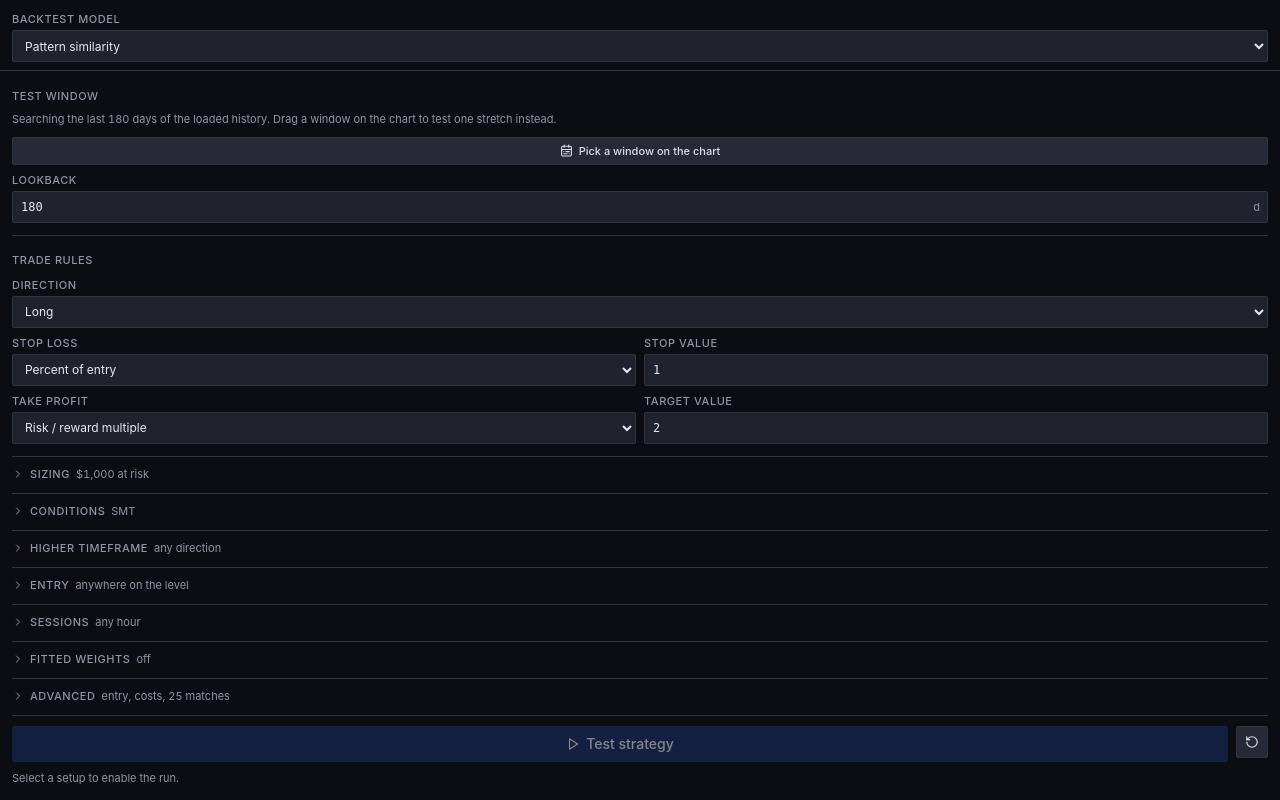
Test: what a run searches, as the panel says it › names the markets searched and the one read for SMT only
(page scrolled)
Click the button "Advanced entry, costs, 25 matches". click: (63, 696)
box: [12,689,1268,703]
(page scrolled)
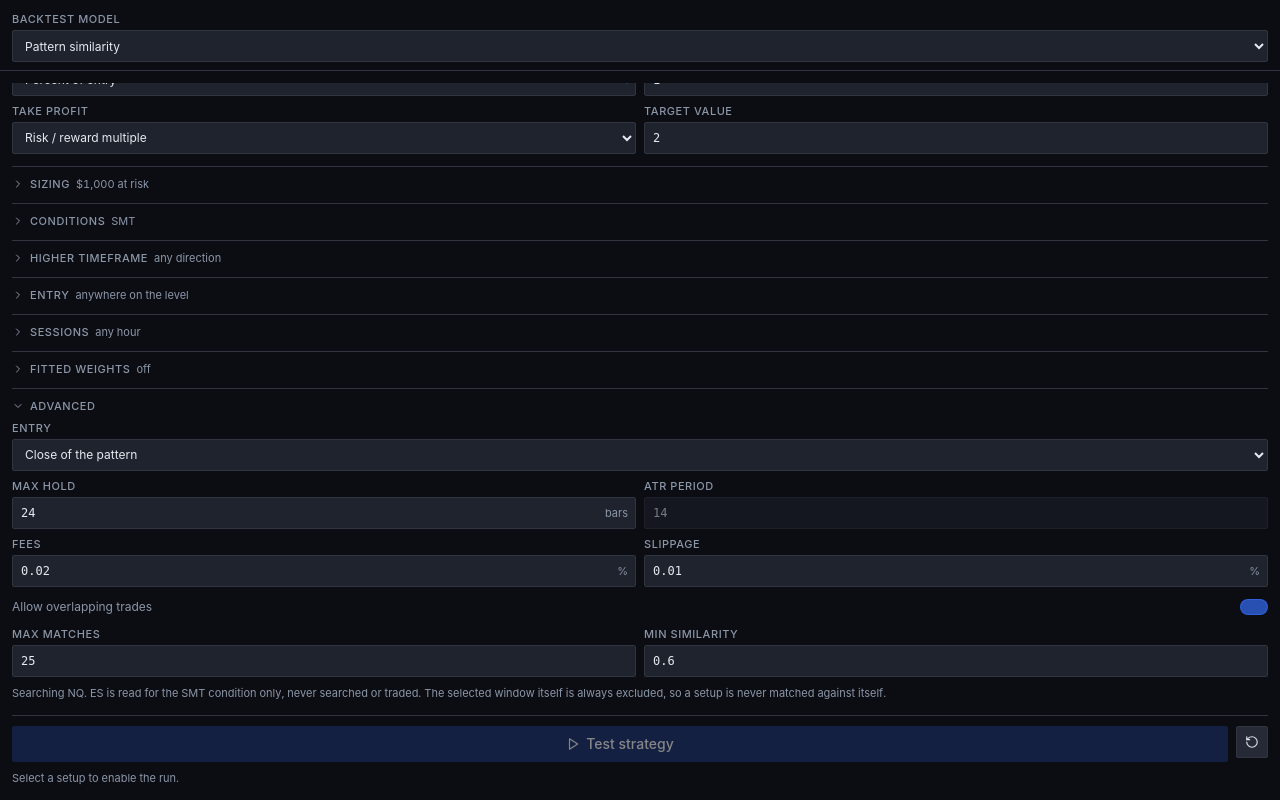
Check: the text "Searching NQ." is shown, box [12,686,886,700]
Check: the text "ES is read for the SMT condition only, never searched or traded" is shown, box [87,686,421,700]
